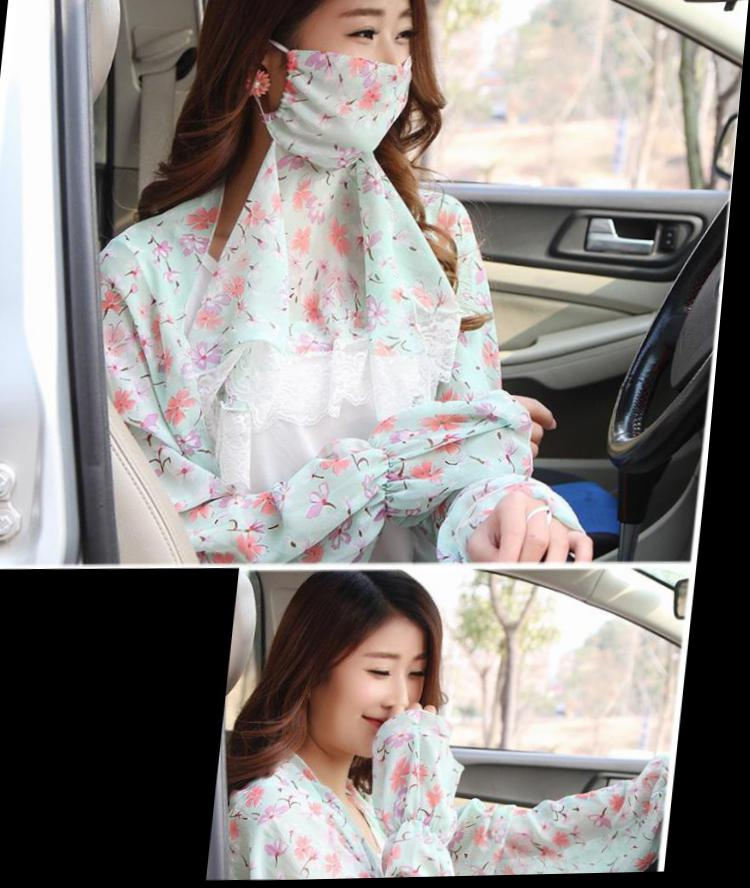NONE: (330, 647, 455, 766)
WRONG: (271, 1, 438, 160)
